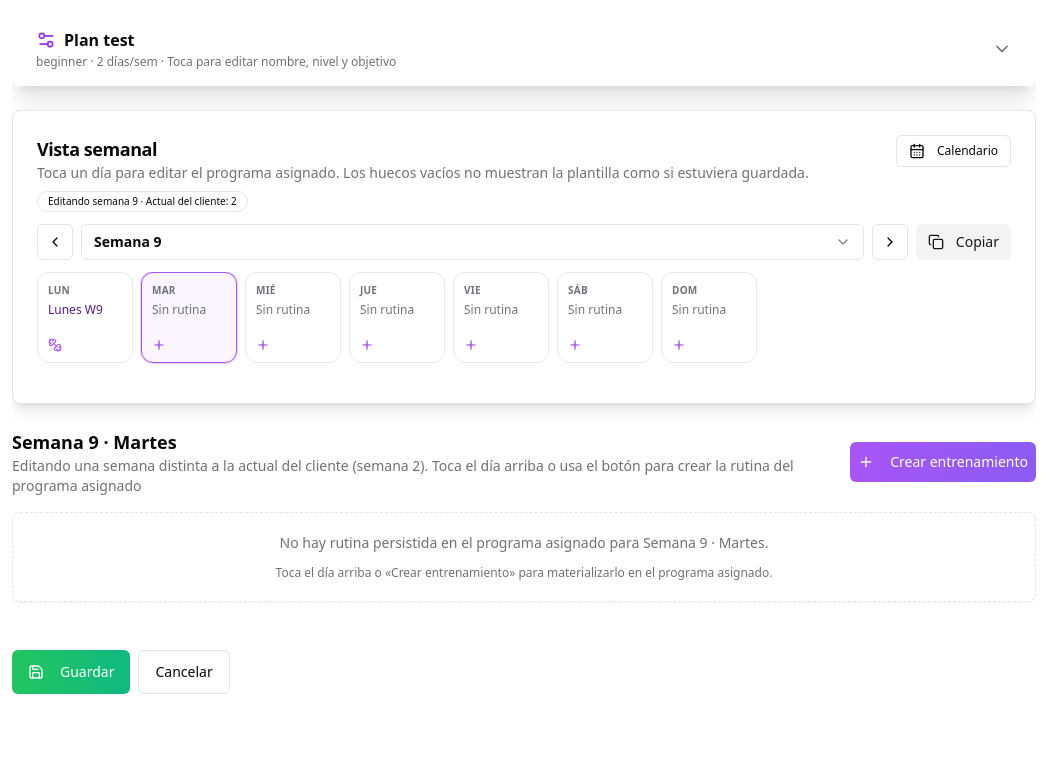
Test: editor de semanas del programa de usuario › respeta initialWeek explícita frente a la semana actual del cliente
Click the button "Lun Lunes W9": x=85, y=318 [37, 272, 133, 363]
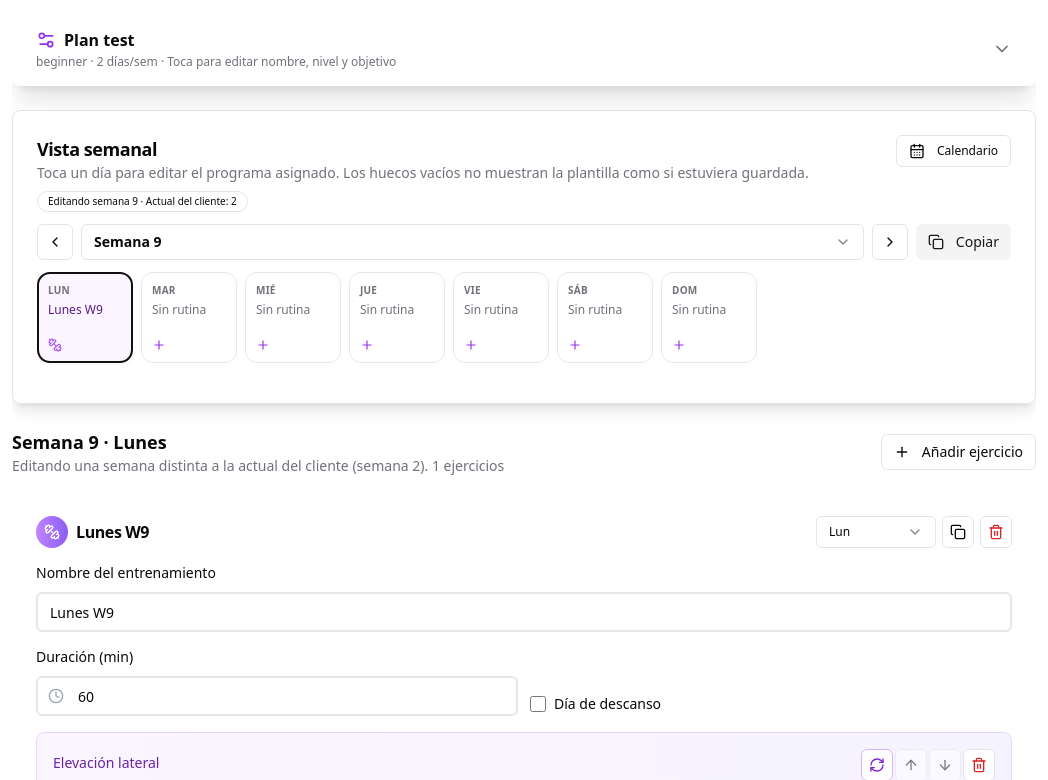
Expected: the text with test id "client-current-week-indicator" shows "Editando semana 9", [48, 194, 237, 208]
Expected: the heading "Elevación lateral" is shown, [53, 753, 160, 772]
